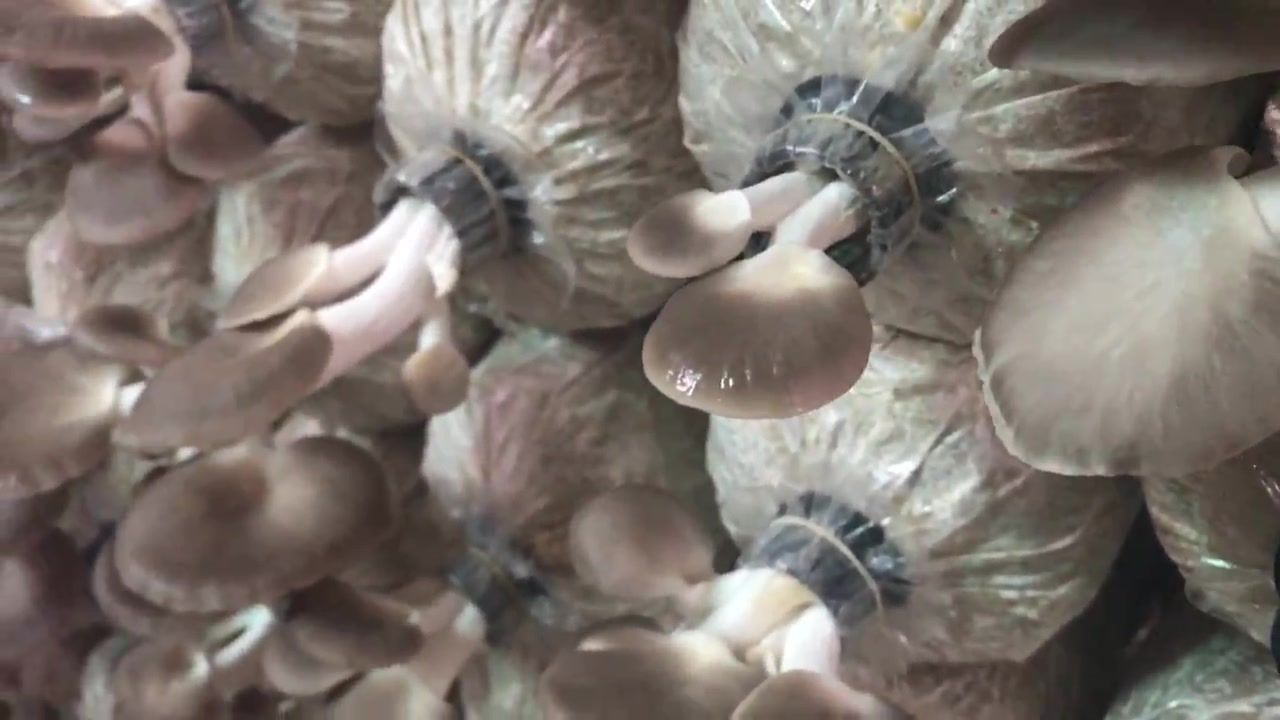nam: (111, 155, 517, 457), (624, 91, 941, 423), (977, 153, 1280, 484), (537, 480, 910, 720), (1, 3, 271, 246), (107, 446, 445, 616), (275, 573, 499, 720), (984, 2, 1280, 77)
